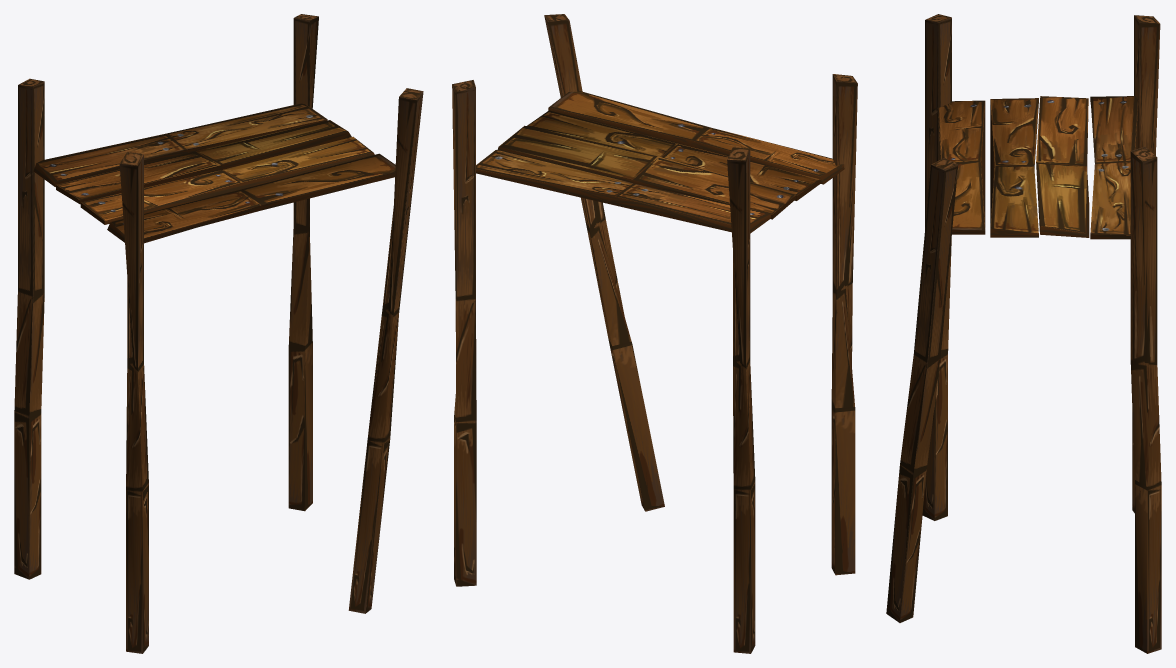
The model's file is platform_wood.fbx.
3 renders of one model, left to right at view 1: azimuth 30°, elevation 25°; view 2: azimuth 150°, elevation 25°; view 3: azimuth 270°, elevation 25°, orthographic.
Visible parts, largest first — view 1: pole_sides_2; view 2: pole_sides_2; view 3: pole_sides_2.
Boxes of the visible parts, <box> form: pole_sides_2: <box>14,14,423,653</box>; pole_sides_2: <box>452,14,857,653</box>; pole_sides_2: <box>886,14,1161,653</box>.
Size of the model in its own units: 456 by 697 by 349.
Materials: 1 (1 with a texture image).
